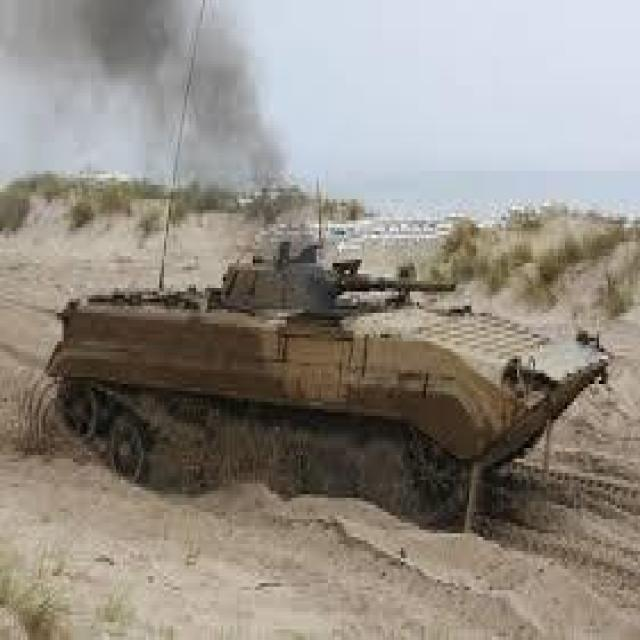Tanks: (32, 210, 603, 526)
